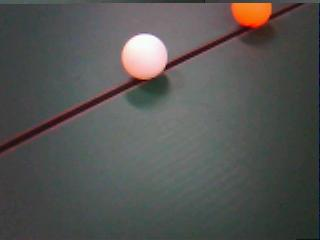oball: (231, 3, 272, 27)
